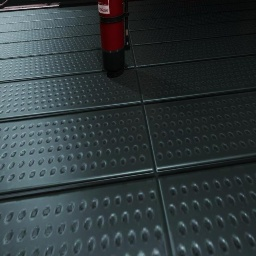FireExtinguisher ]: (98, 0, 130, 73)
